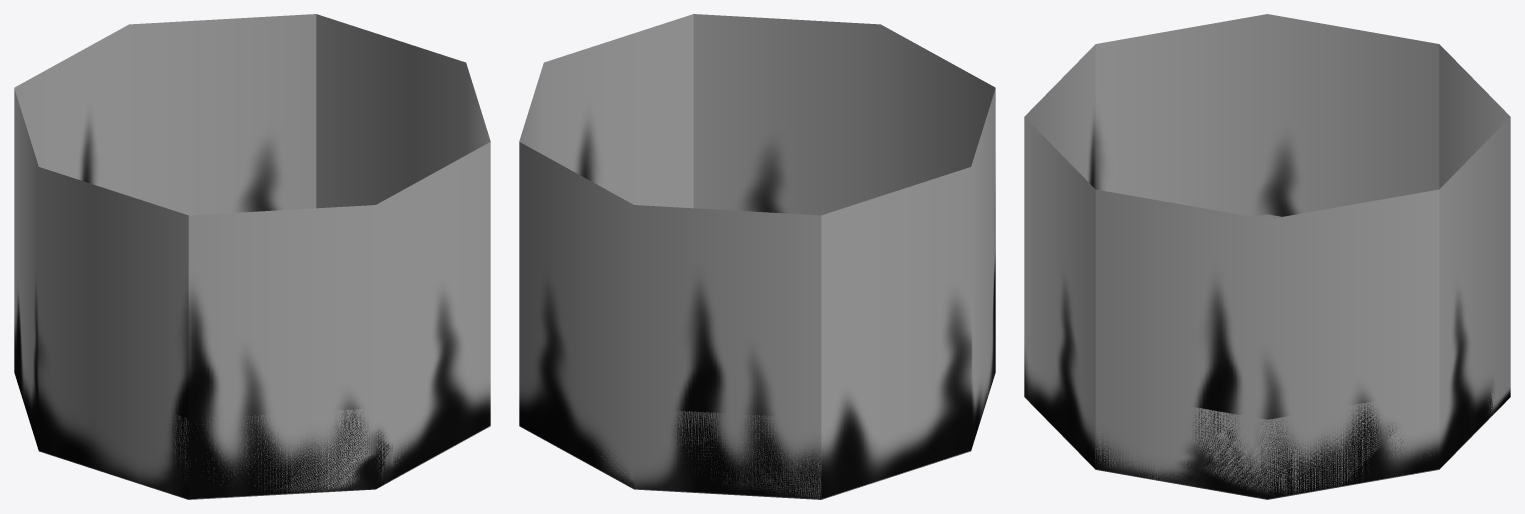
File: sfx_ct0125_always01.glb
The picture shows the model from 3 angles, left to right: view 1: azimuth 30°, elevation 25°; view 2: azimuth 150°, elevation 25°; view 3: azimuth 270°, elevation 25°; orthographic projection.
Visible parts, largest first — view 1: sfx_ct0125_always01_obj13, sfx_ct0125_always01_obj14, sfx_ct0125_always01_obj8, sfx_ct0125_always01_obj12, sfx_ct0125_always01_obj10, sfx_ct0125_always01_obj11; view 2: sfx_ct0125_always01_obj8, sfx_ct0125_always01_obj14, sfx_ct0125_always01_obj13, sfx_ct0125_always01_obj12, sfx_ct0125_always01_obj7; view 3: sfx_ct0125_always01_obj12, sfx_ct0125_always01_obj14, sfx_ct0125_always01_obj13, sfx_ct0125_always01_obj8, sfx_ct0125_always01_obj9, sfx_ct0125_always01_obj7.
Boxes of the visible parts, x1,y1,x2,y2 form: sfx_ct0125_always01_obj13: [188, 142, 490, 499]; sfx_ct0125_always01_obj14: [14, 89, 188, 499]; sfx_ct0125_always01_obj8: [14, 14, 316, 215]; sfx_ct0125_always01_obj12: [316, 14, 490, 208]; sfx_ct0125_always01_obj10: [189, 393, 407, 498]; sfx_ct0125_always01_obj11: [62, 386, 188, 498]; sfx_ct0125_always01_obj8: [519, 142, 821, 499]; sfx_ct0125_always01_obj14: [821, 89, 995, 499]; sfx_ct0125_always01_obj13: [693, 14, 995, 215]; sfx_ct0125_always01_obj12: [519, 14, 693, 208]; sfx_ct0125_always01_obj7: [580, 381, 821, 499]; sfx_ct0125_always01_obj12: [1095, 189, 1439, 499]; sfx_ct0125_always01_obj14: [1095, 14, 1439, 218]; sfx_ct0125_always01_obj13: [1024, 44, 1095, 469]; sfx_ct0125_always01_obj8: [1439, 44, 1510, 469]; sfx_ct0125_always01_obj9: [1095, 390, 1438, 499]; sfx_ct0125_always01_obj7: [1488, 317, 1510, 418].
Bounding box in the file's own units: 1.1 × 0.7 × 1.1.
1 material, 1 textured.
